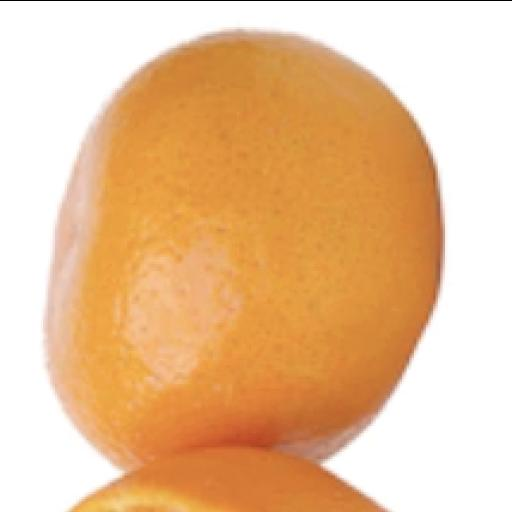orange: (46, 32, 440, 468), (72, 448, 382, 511)
